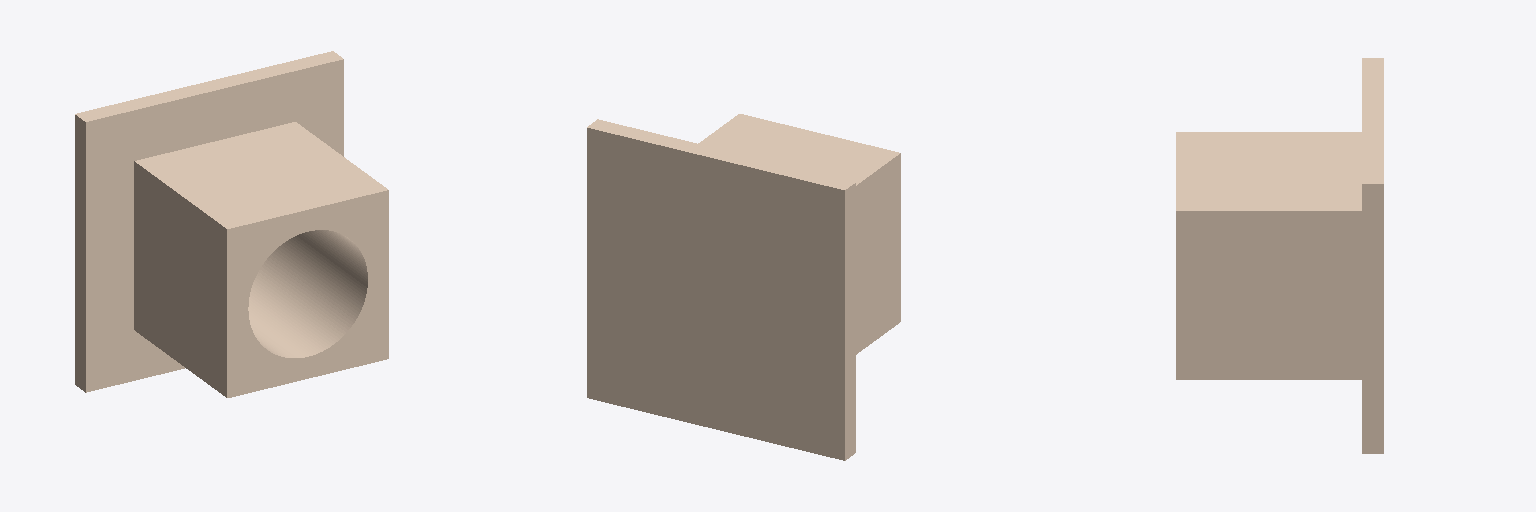
File: industreal_tray_pick_round_peg_16mm.obj
3 renders of one model, left to right at view 1: azimuth 30°, elevation 25°; view 2: azimuth 150°, elevation 25°; view 3: azimuth 270°, elevation 25°, orthographic.
Visible parts, largest first — view 1: industreal_tray_pick_round_peg_16mm; view 2: industreal_tray_pick_round_peg_16mm; view 3: industreal_tray_pick_round_peg_16mm.
Boxes of the visible parts, x1=… form: industreal_tray_pick_round_peg_16mm: x1=75, y1=51, x2=388, y2=397; industreal_tray_pick_round_peg_16mm: x1=587, y1=114, x2=900, y2=460; industreal_tray_pick_round_peg_16mm: x1=1176, y1=58, x2=1383, y2=453.
Bounding box in the file's own units: 0.04 × 0.04 × 0.028.